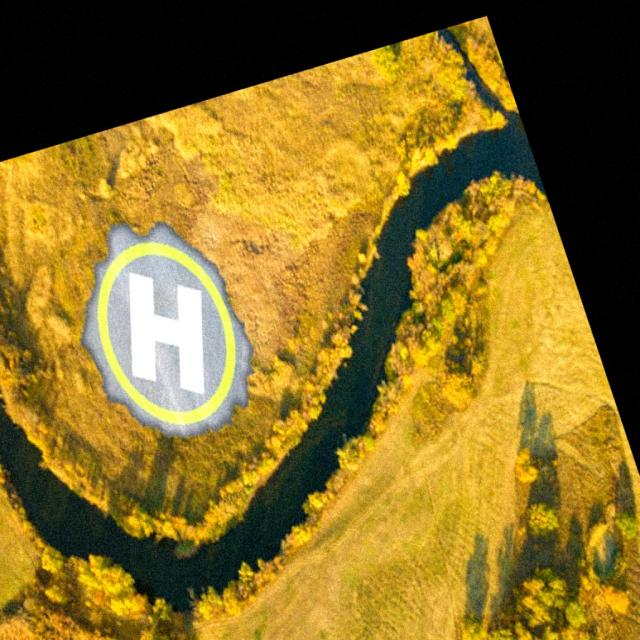helipad: (94, 235, 242, 428)
